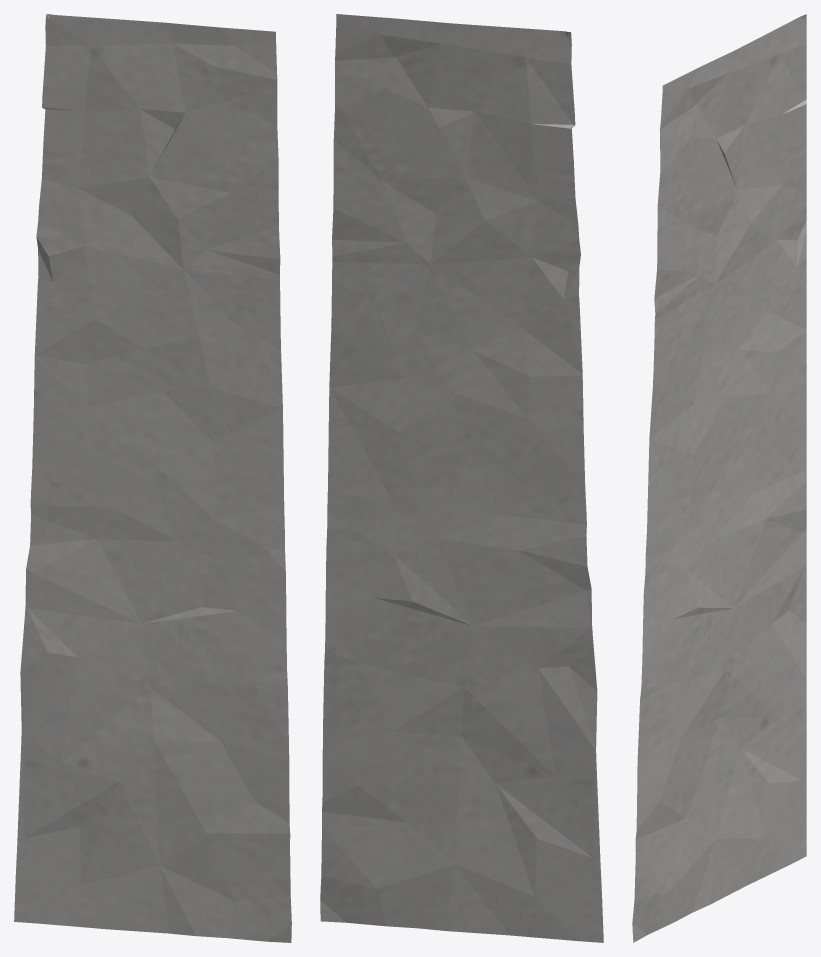
The picture shows the model from 3 angles, left to right: view 1: azimuth 30°, elevation 25°; view 2: azimuth 210°, elevation 25°; view 3: azimuth 270°, elevation 25°; orthographic projection. The views are drawn at different scales.
Size of the model in its own units: 0.1814 by 0.8374 by 0.1543.
Materials: 1 (1 with a texture image).
